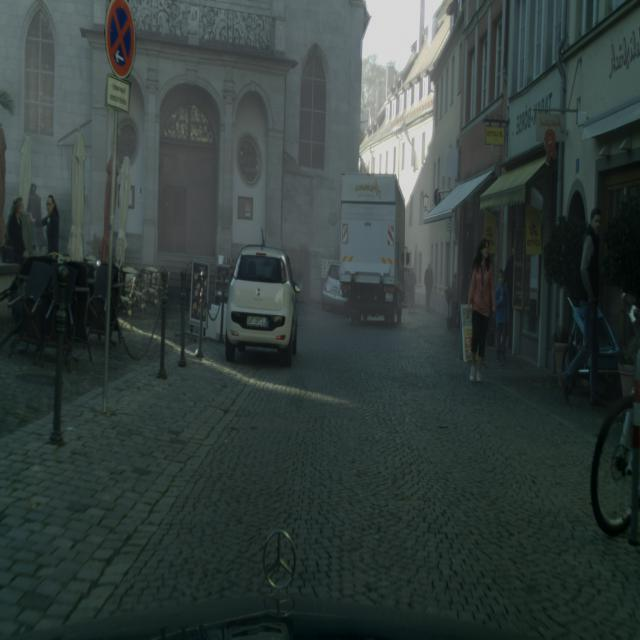bus: (562, 208, 603, 406), (467, 240, 495, 382), (494, 268, 510, 363), (5, 196, 27, 260), (41, 194, 60, 254), (27, 184, 43, 252), (424, 261, 433, 312)
car: (339, 172, 406, 326)
person: (224, 245, 300, 366), (321, 261, 348, 315)
truck: (589, 297, 640, 539)
